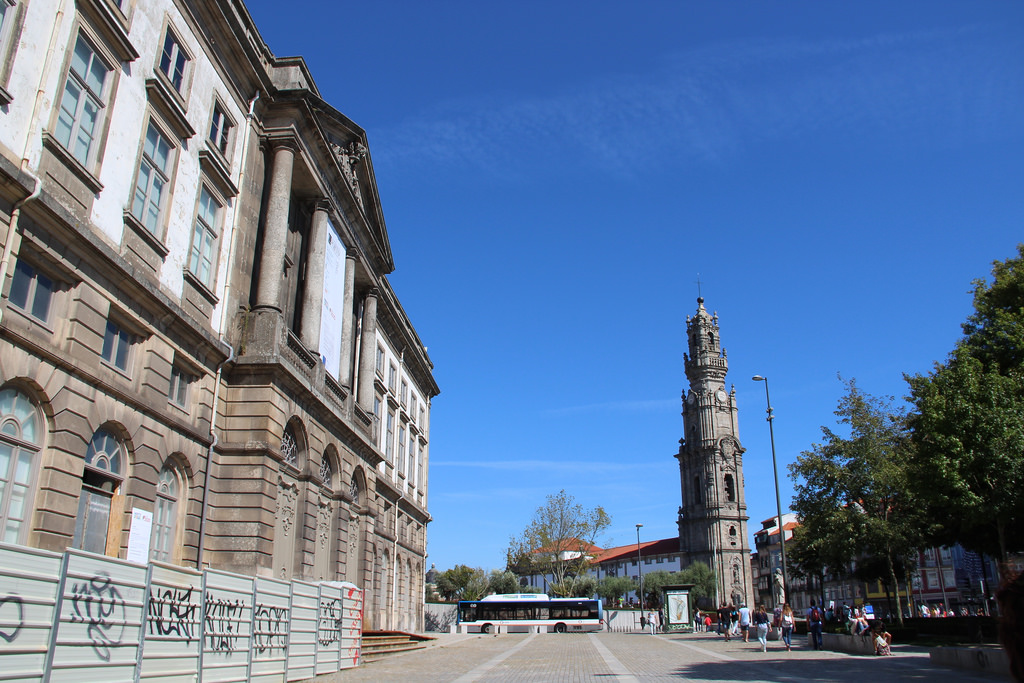clerigos: (672, 269, 752, 613)
